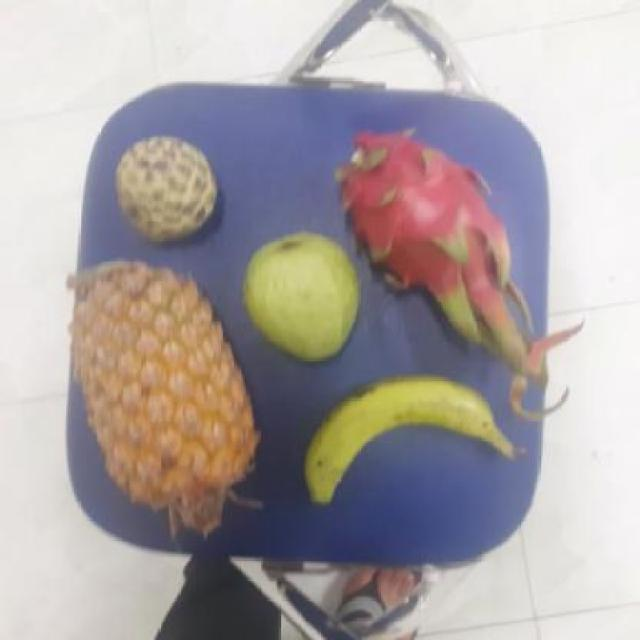dragon fruit: (338, 130, 512, 298)
guava: (242, 231, 367, 357)
pineapple: (72, 256, 256, 524)
sugar apple: (115, 140, 220, 242)
